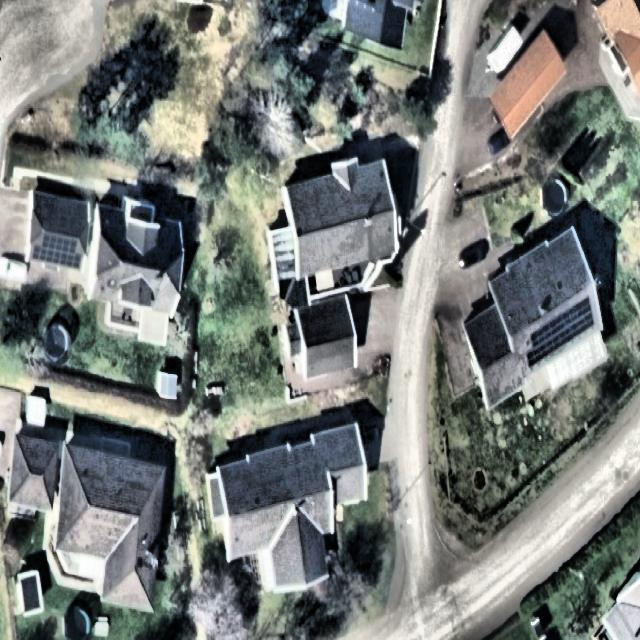roof_pv: (520, 295, 599, 367), (30, 232, 84, 273)
